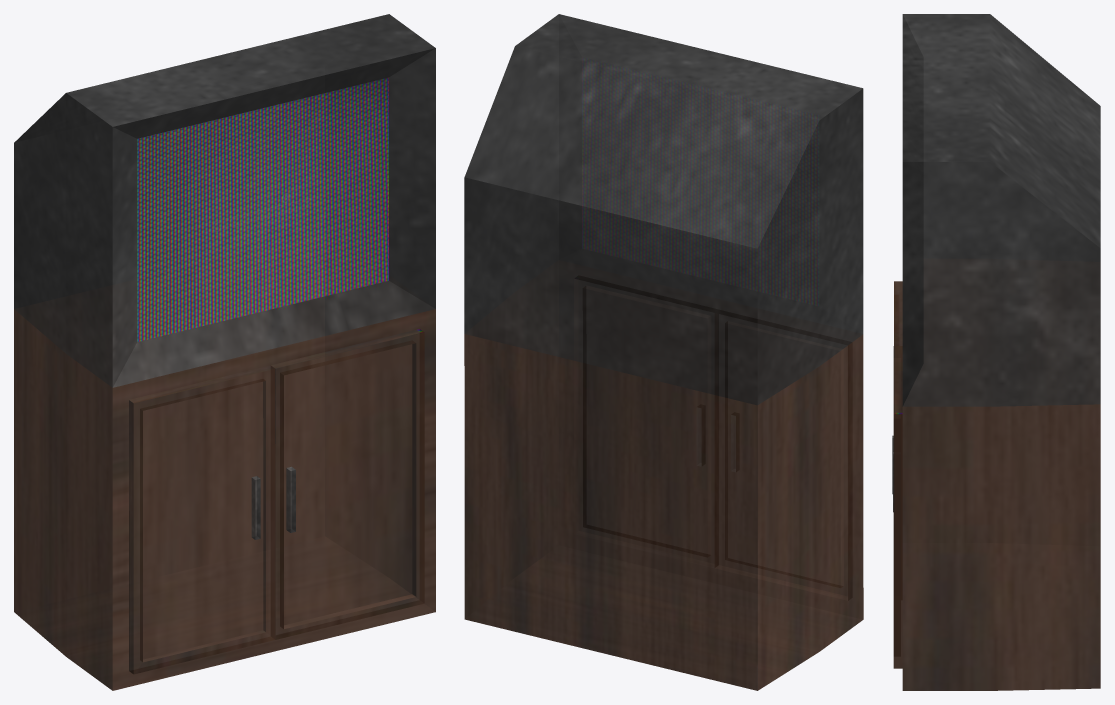
File: TV_used.glb
3 renders of one model, left to right at view 1: azimuth 30°, elevation 25°; view 2: azimuth 150°, elevation 25°; view 3: azimuth 270°, elevation 25°, orthographic. The views are drawn at different scales.
Parts seen in each view (by area): view 1: Cube_Cube.001; view 2: Cube_Cube.001; view 3: Cube_Cube.001.
Part boxes in pixels (x1=…): Cube_Cube.001: x1=14, y1=14, x2=435, y2=690; Cube_Cube.001: x1=464, y1=14, x2=863, y2=690; Cube_Cube.001: x1=892, y1=14, x2=1100, y2=690.
Bounding box in the file's own units: 3.29 × 5.49 × 1.96.
1 material, 1 textured.
